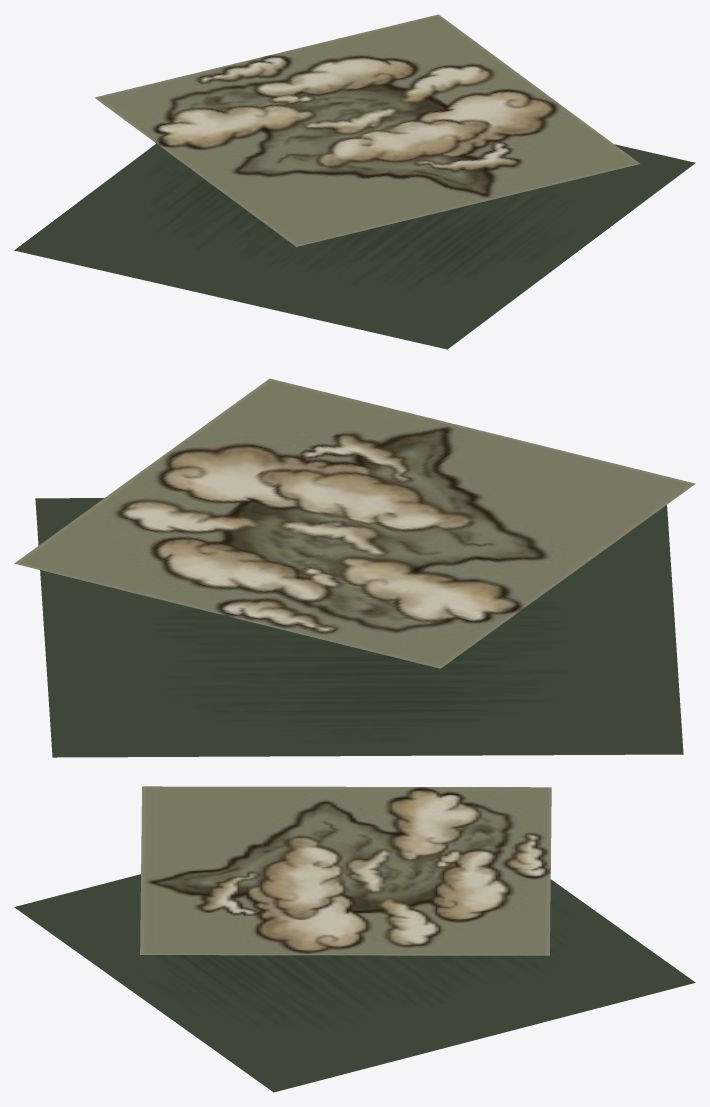
The model's file is pir_m_are_isl_mysterious_02_worldmap.fbx.
3 renders of one model, top to bottom at view 1: azimuth 30°, elevation 25°; view 2: azimuth 150°, elevation 25°; view 3: azimuth 270°, elevation 25°, orthographic. The views are drawn at different scales.
Parts seen in each view (by area): view 1: clouds, sketchmark; view 2: clouds, sketchmark; view 3: clouds, sketchmark.
Part boxes in pixels (x1,y1,x2,y2): clouds: (94,14,640,246); sketchmark: (14,143,695,349); clouds: (14,378,695,668); sketchmark: (35,498,683,757); clouds: (140,786,551,955); sketchmark: (14,874,695,1092).
Size of the model in its own units: 31.28 by 3.84 by 30.54.
Materials: 1 (1 with a texture image).
